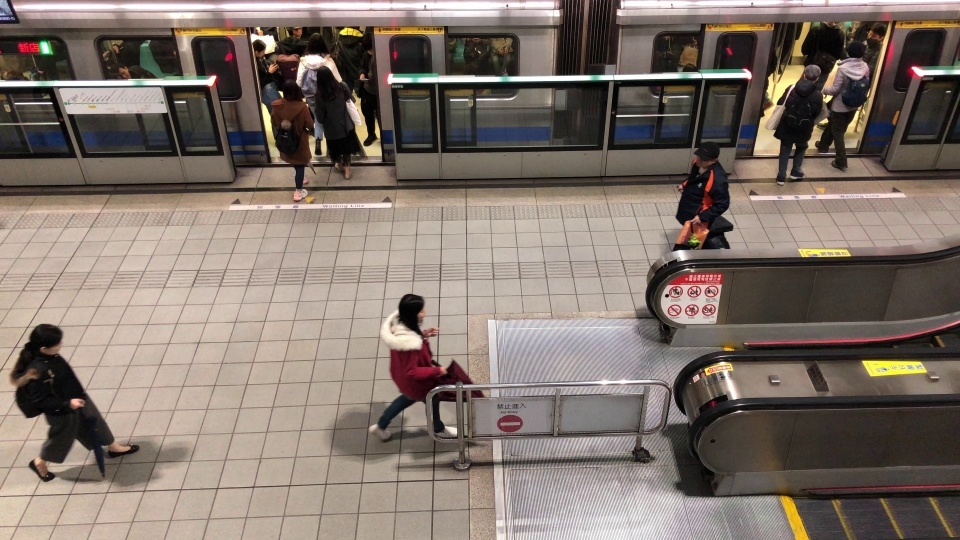person_head: (391, 289, 427, 331), (28, 322, 66, 354), (689, 141, 721, 169), (314, 67, 339, 93), (841, 40, 868, 60), (798, 63, 821, 85), (279, 79, 303, 100), (303, 34, 327, 55), (279, 37, 301, 58), (866, 22, 888, 43), (356, 29, 378, 49), (249, 39, 267, 56)
person_vbox: (8, 322, 139, 484), (366, 289, 462, 448), (819, 21, 890, 133), (814, 41, 872, 171), (766, 63, 826, 187), (672, 141, 733, 255), (310, 65, 367, 179), (268, 79, 320, 203), (295, 33, 344, 156), (348, 27, 389, 148), (245, 38, 283, 136), (272, 37, 310, 129)
